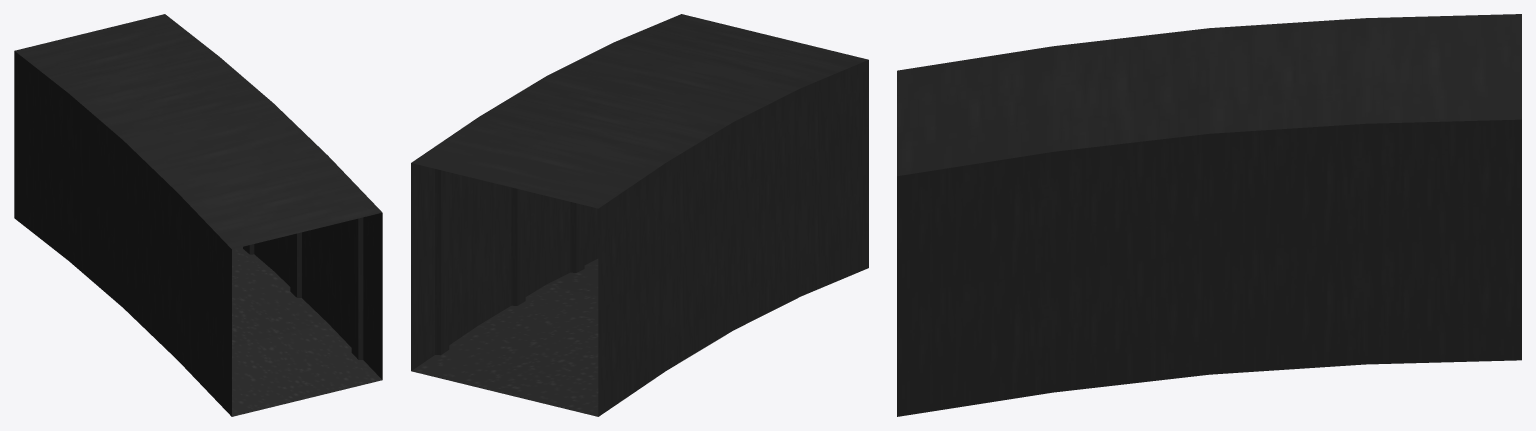
Rendered from SW_ENV_RailTunnel_Riser_B_Single_10m.fbx.
3 renders of one model, left to right at view 1: azimuth 30°, elevation 25°; view 2: azimuth 150°, elevation 25°; view 3: azimuth 270°, elevation 25°, orthographic. The views are drawn at different scales.
Visible parts, largest first — view 1: SW_ENV_RailTunnel_Riser_B_Single_10m; view 2: SW_ENV_RailTunnel_Riser_B_Single_10m; view 3: SW_ENV_RailTunnel_Riser_B_Single_10m.
Boxes of the visible parts, x1,y1,x2,y2 form: SW_ENV_RailTunnel_Riser_B_Single_10m: [14, 14, 382, 416]; SW_ENV_RailTunnel_Riser_B_Single_10m: [411, 14, 868, 416]; SW_ENV_RailTunnel_Riser_B_Single_10m: [897, 14, 1521, 416].
Size of the model in its own units: 4 by 5.25 by 10.
